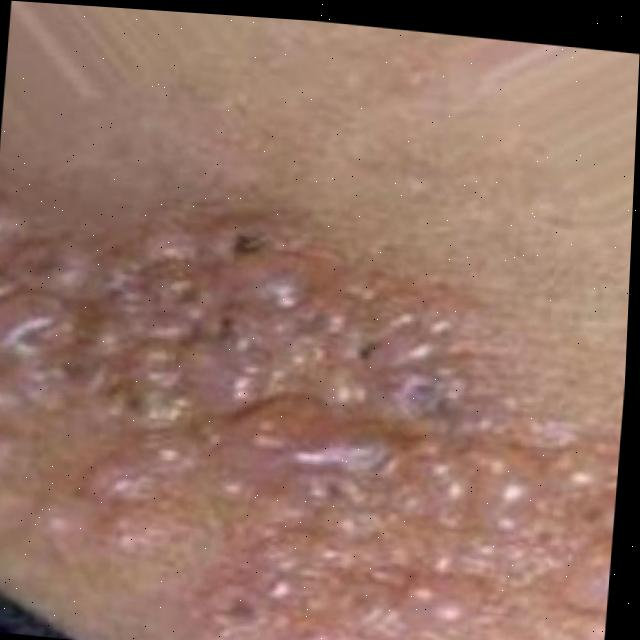Shingles: (0, 209, 631, 640)
